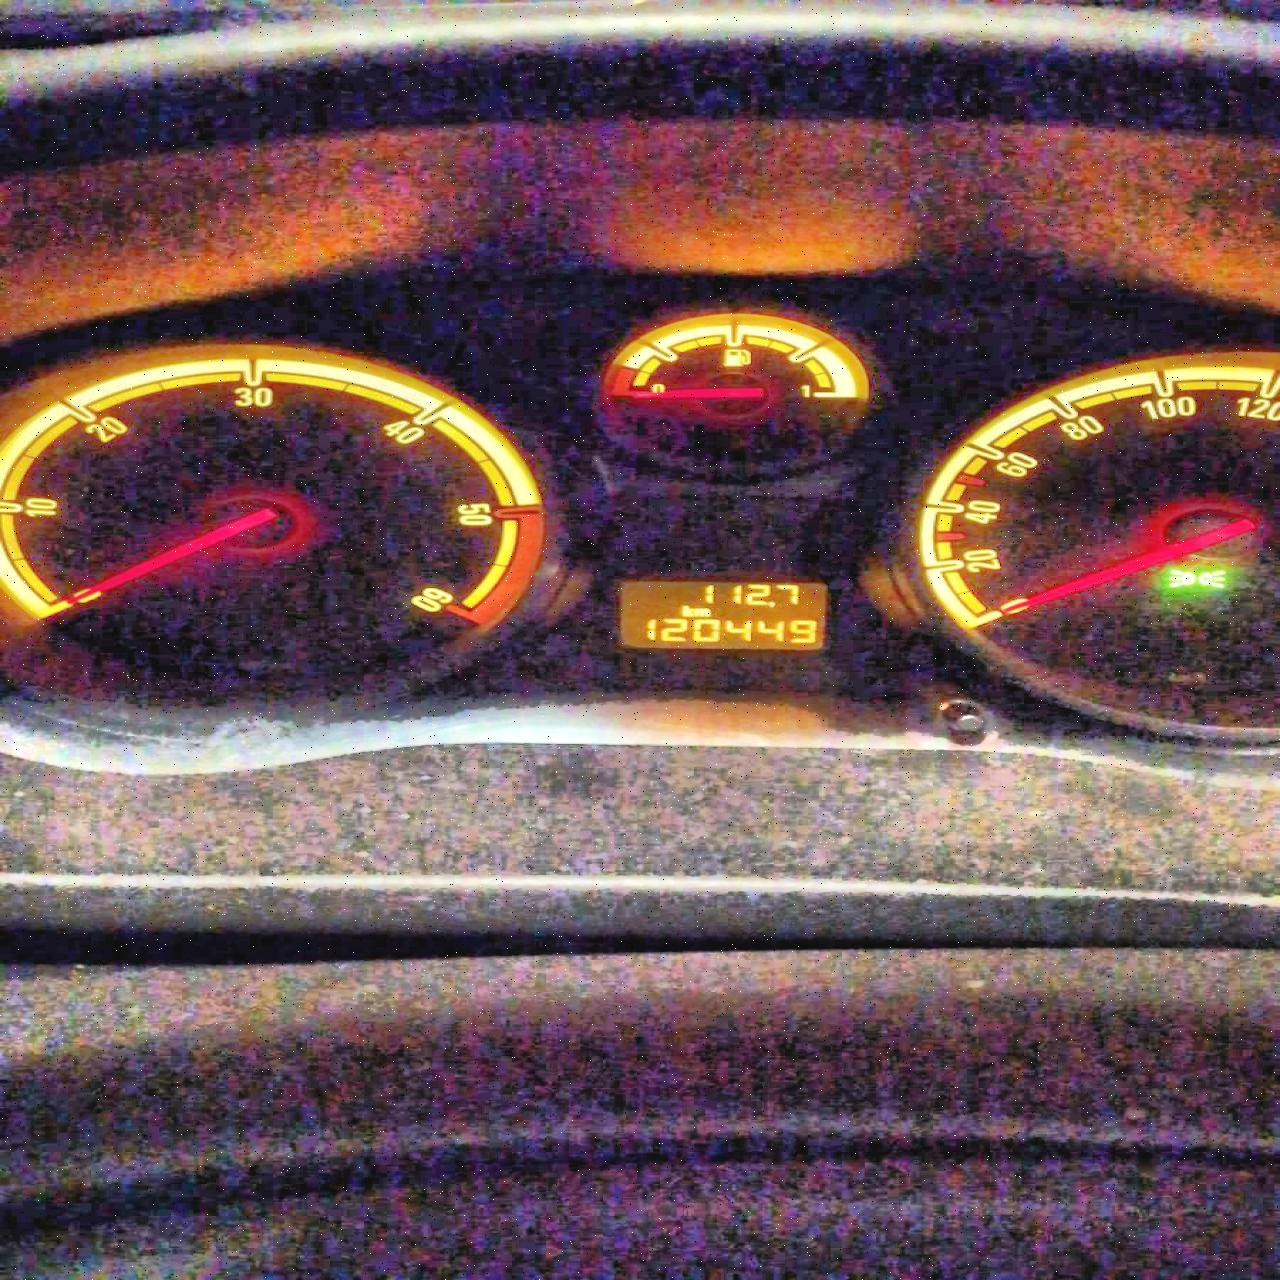-: (767, 601, 775, 607)
0: (689, 619, 720, 642)
1: (703, 584, 714, 604), (730, 585, 741, 604), (646, 618, 654, 640)
2: (659, 618, 687, 640), (744, 584, 769, 605)
4: (755, 620, 784, 641), (724, 619, 751, 641)
7: (775, 584, 798, 604)
9: (788, 620, 816, 642)
X: (693, 607, 709, 617), (680, 605, 693, 617)
odometer: (615, 579, 831, 651)
